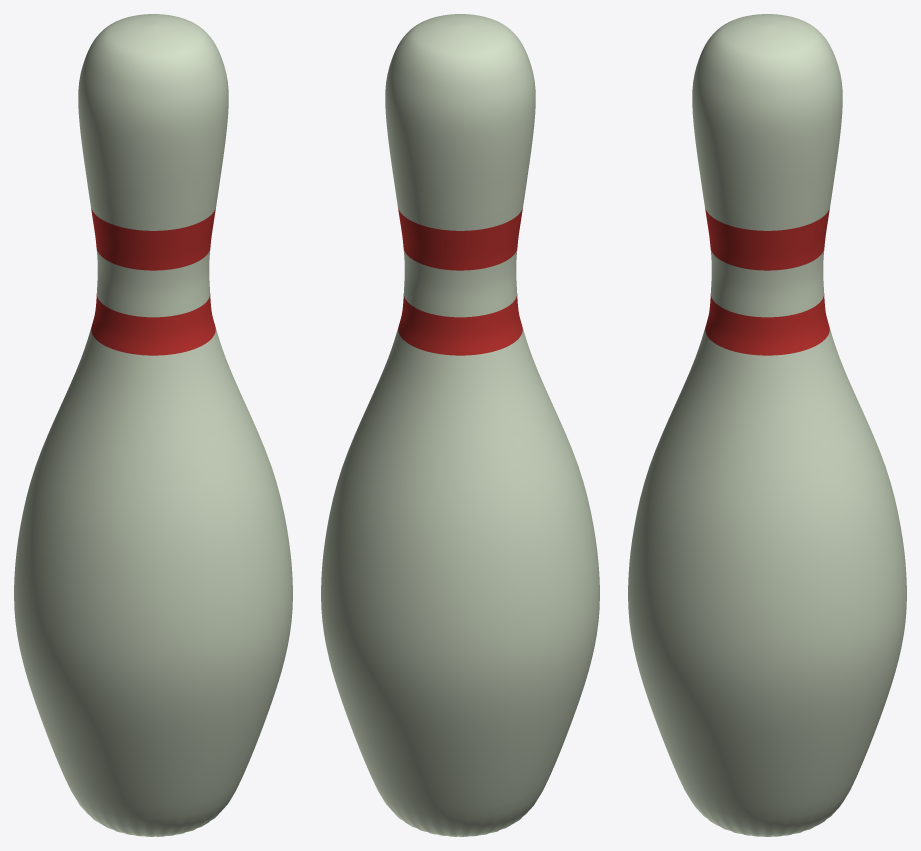
File: BowlingPin.fbx
3 views of the same model, side by side, from view 1: azimuth 30°, elevation 25°; view 2: azimuth 150°, elevation 25°; view 3: azimuth 270°, elevation 25° (orthographic).
Visible parts, largest first — view 1: Pin; view 2: Pin; view 3: Pin.
Boxes of the visible parts, bbox=[...] form: Pin: bbox=[14, 14, 292, 836]; Pin: bbox=[321, 14, 599, 836]; Pin: bbox=[628, 14, 906, 836].
Size of the model in its own units: 12 by 37.95 by 12.
